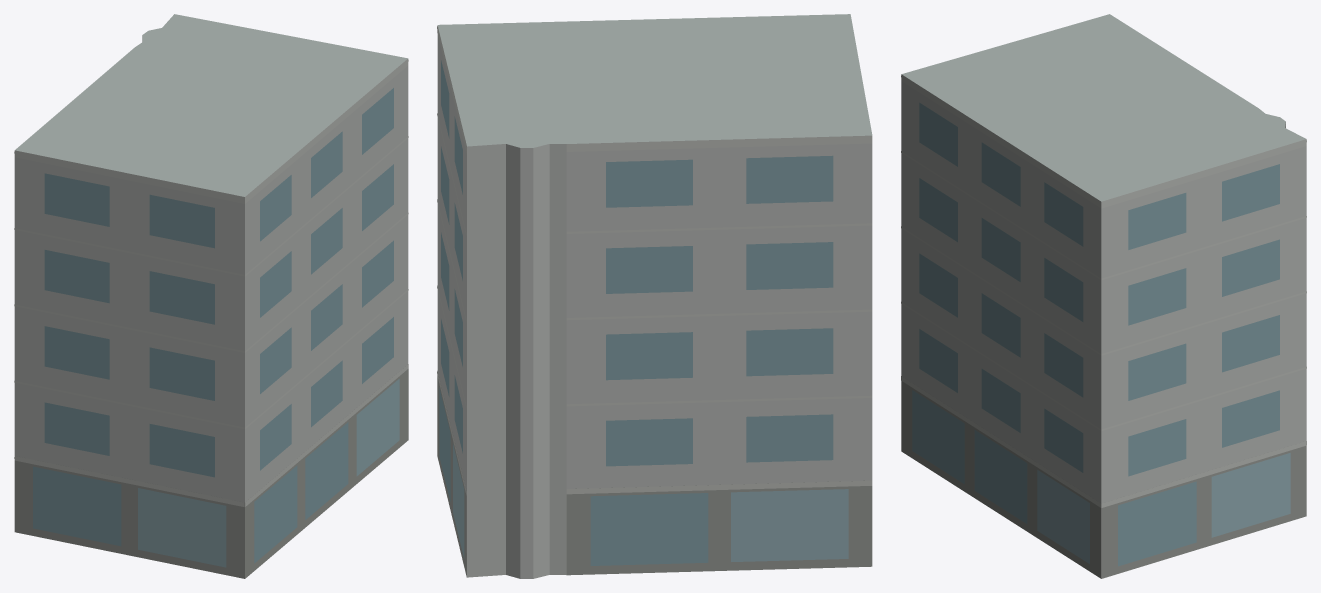
The model's file is survey-upis-32724553.glb.
3 views of the same model, side by side, from view 1: azimuth 30°, elevation 25°; view 2: azimuth 150°, elevation 25°; view 3: azimuth 270°, elevation 25° (orthographic). The views are drawn at different scales.
Visible parts, largest first — view 1: survey-upis-32724553.tmp; view 2: survey-upis-32724553.tmp; view 3: survey-upis-32724553.tmp.
Boxes of the visible parts, box(x1,y1,x2,y2) form: survey-upis-32724553.tmp: box(14, 14, 408, 578); survey-upis-32724553.tmp: box(437, 14, 872, 578); survey-upis-32724553.tmp: box(901, 14, 1306, 578).
Bounding box in the file's own units: 14.17 × 13.25 × 12.92.
